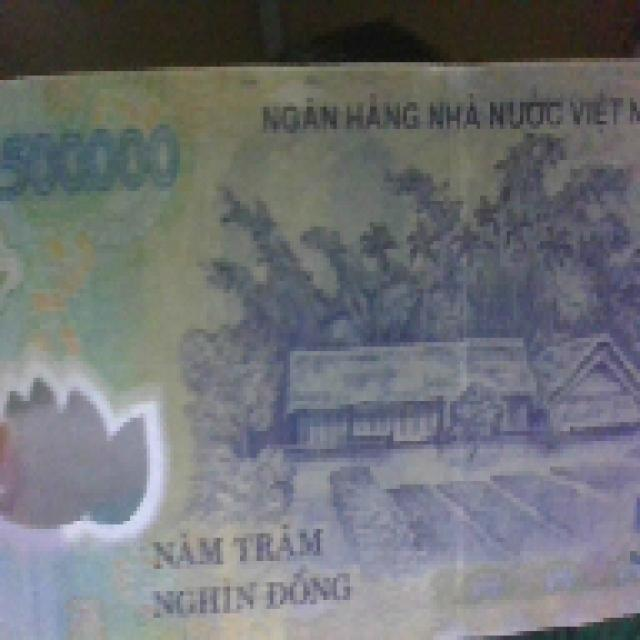500 000 VND: (0, 54, 637, 636)
